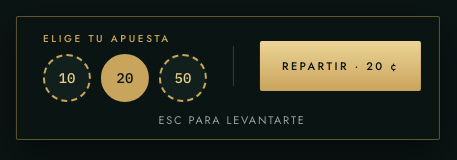
Test: BlackjackBar › before a hand › changes the chosen bet and the deal label
The width and height of the screenshot is (457, 160).
Click the button with class "bet-chip" showing "50".
click(183, 78)  # box [159,54,207,102]
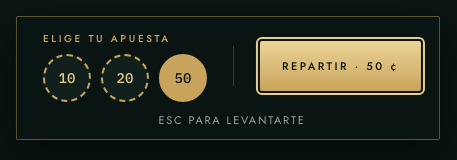
Expected: the button with class "action" reads "Repartir · 50 ¢", [260,41,421,91]
